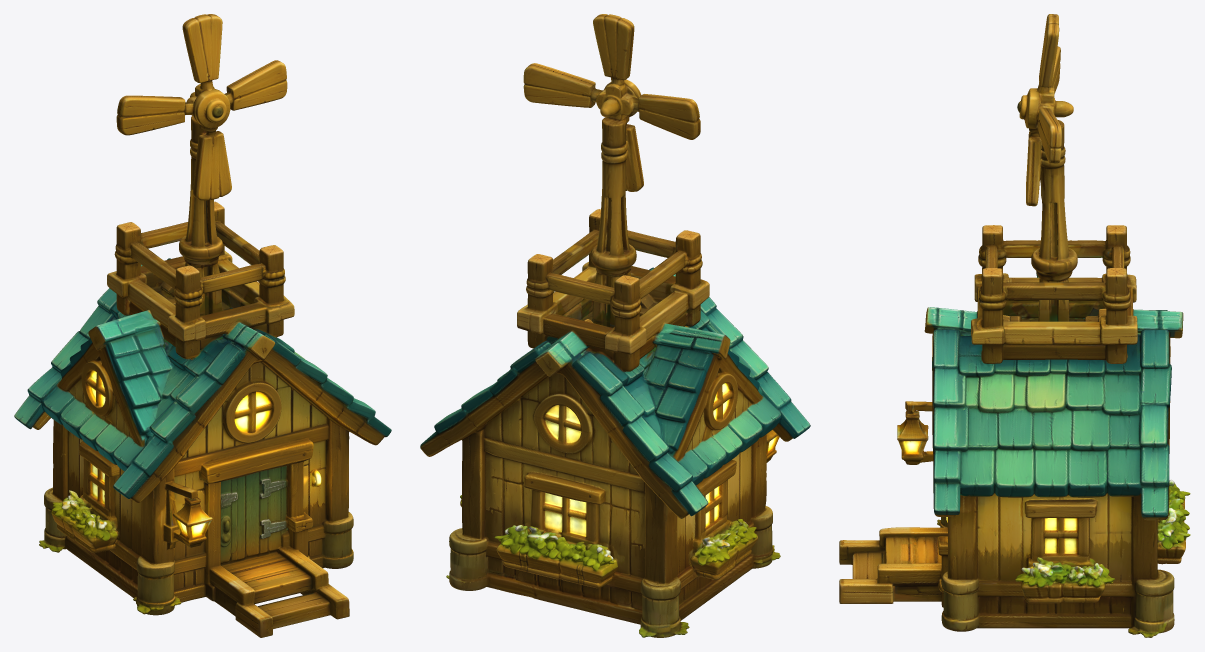
The model's file is Meshy_AI_Windmill_Top_Cottage_0701141905_texture.fbx.
3 renders of one model, left to right at view 1: azimuth 30°, elevation 25°; view 2: azimuth 150°, elevation 25°; view 3: azimuth 270°, elevation 25°, orthographic. The views are drawn at different scales.
Parts seen in each view (by area): view 1: Mesh_0; view 2: Mesh_0; view 3: Mesh_0.
Part boxes in pixels (box(x1,y1,x2,y2)): Mesh_0: box(14, 14, 391, 637); Mesh_0: box(420, 14, 810, 637); Mesh_0: box(839, 14, 1190, 637).
Size of the model in its own units: 99.38 by 190 by 108.
Materials: 1 (1 with a texture image).
